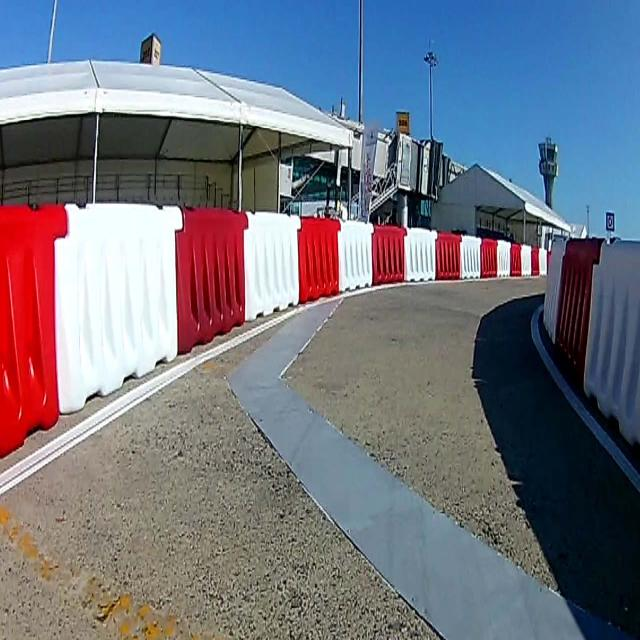durak: (606, 209, 615, 231)
